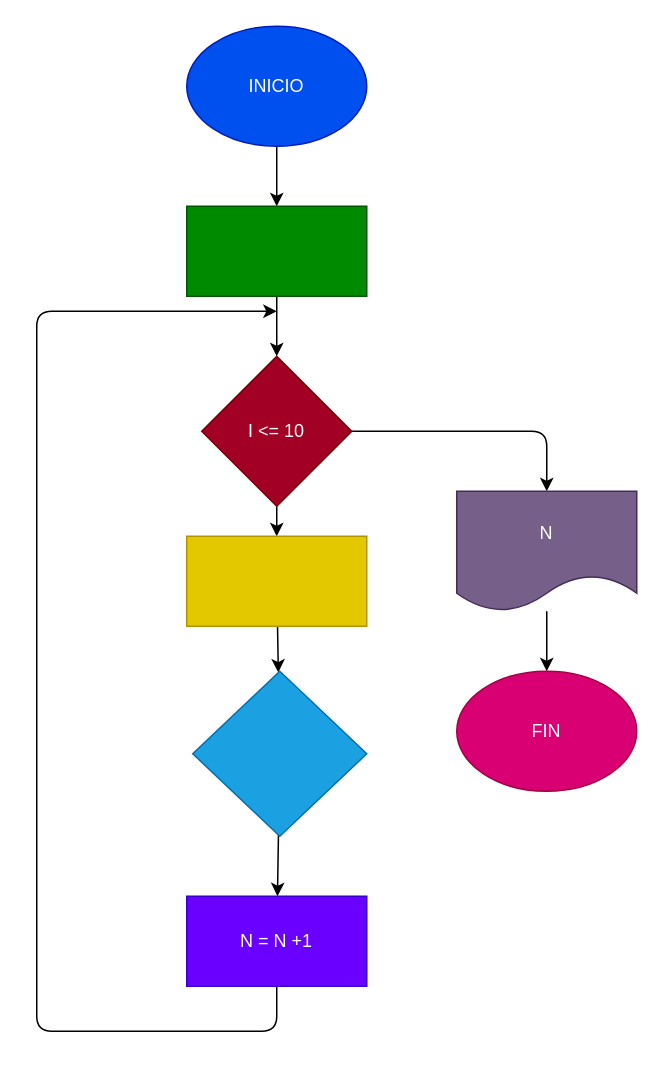
Some shapes in this 663 by 1070 pixel diagram are drawn without their labels. The centre of each missing label's shape, as x and y in pixels:
"I = 1 N = 0" belongs at point 276,250.
"numero / 3 == 1" belongs at point 279,753.
"numero = random.randit(1, 6) I = I + 1" belongs at point 276,580.
